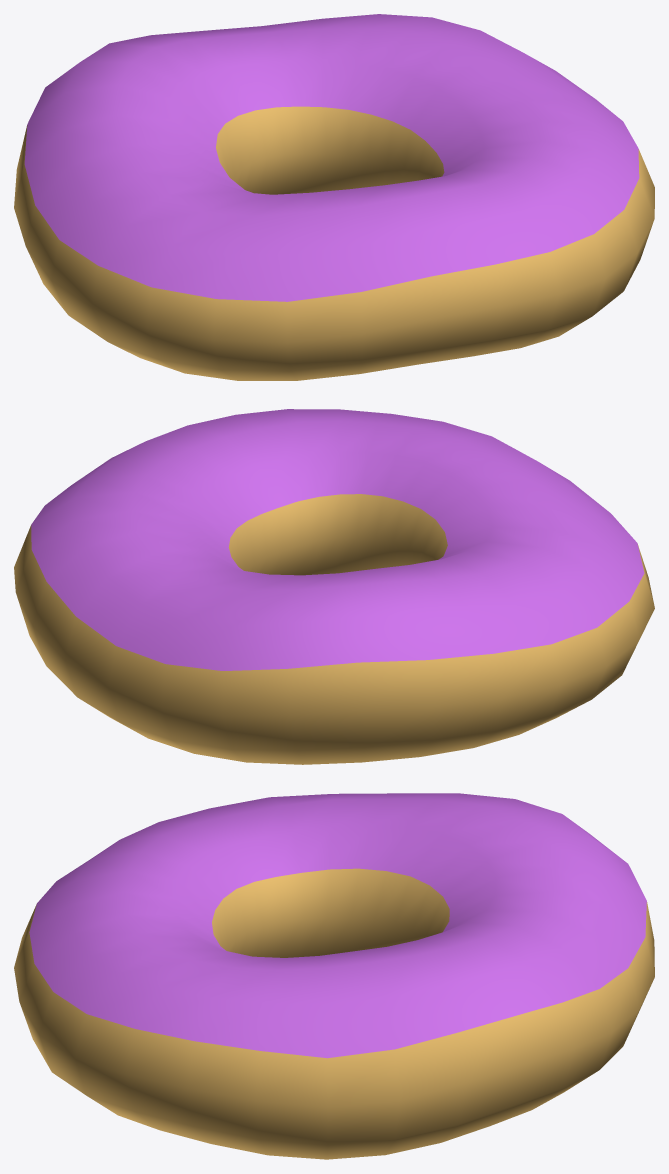
The model's file is kobliha.gltf.
The picture shows the model from 3 angles, top to bottom: view 1: azimuth 30°, elevation 25°; view 2: azimuth 150°, elevation 25°; view 3: azimuth 270°, elevation 25°; orthographic projection.
Parts seen in each view (by area): view 1: poleva; view 2: poleva; view 3: poleva.
Part boxes in pixels (x1,y1,x2,y2): poleva: (14, 14, 654, 380); poleva: (14, 409, 654, 764); poleva: (14, 793, 654, 1159).
Bounding box in the file's own units: 0.4912 × 0.1547 × 0.4863.
